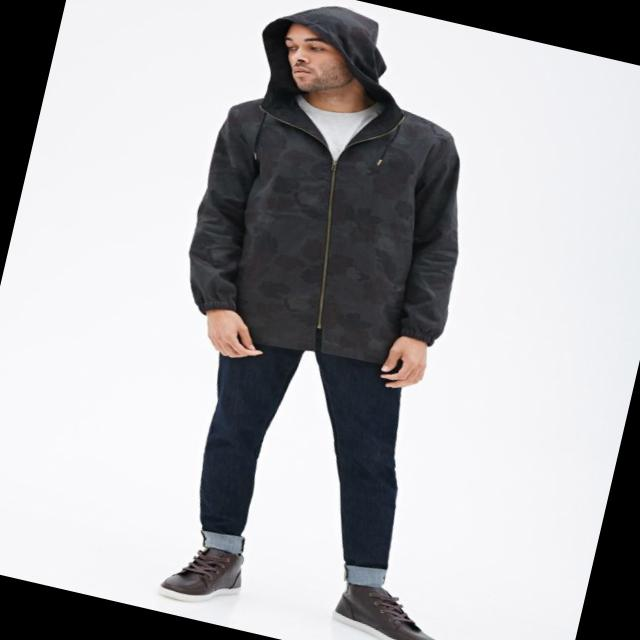Jacket: (159, 70, 493, 372)
